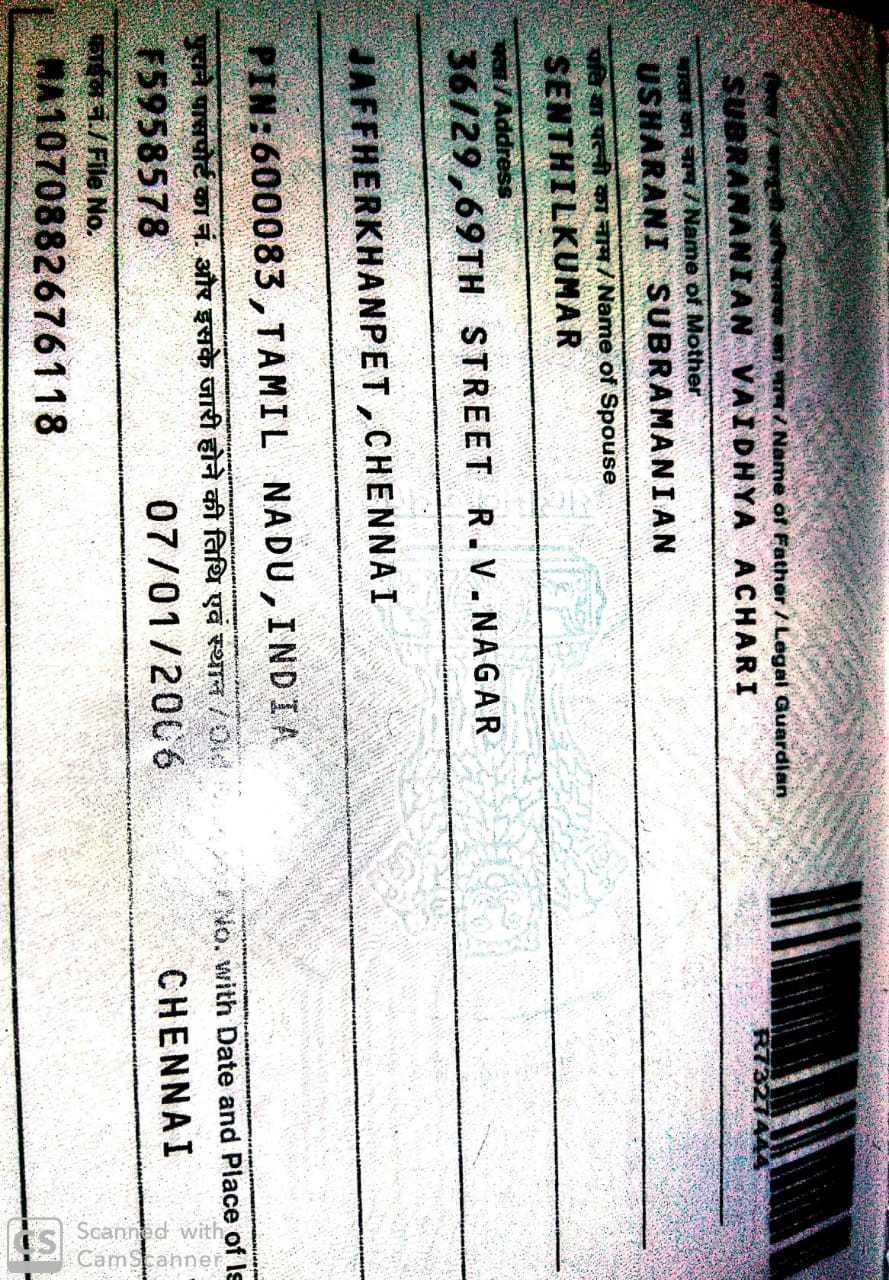File_no: (25, 50, 76, 455)
address: (238, 33, 518, 880)
father_name: (710, 52, 783, 739)
mother_name: (620, 20, 700, 587)
old_passport_details: (122, 32, 222, 1178)
passport_no: (741, 1016, 774, 1198)
spouse_name: (530, 25, 593, 390)
